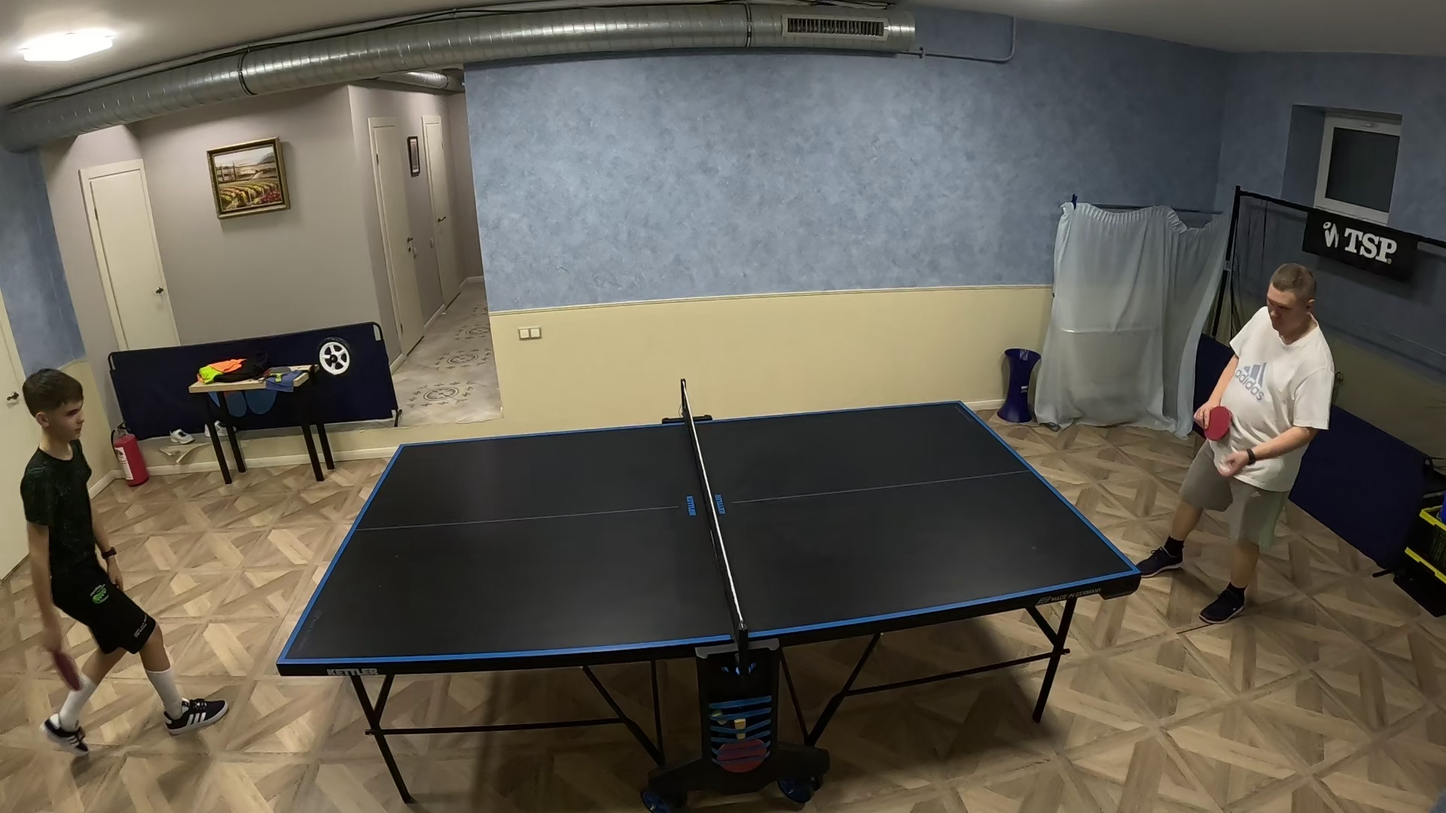Ball: (1220, 455, 1231, 473)
